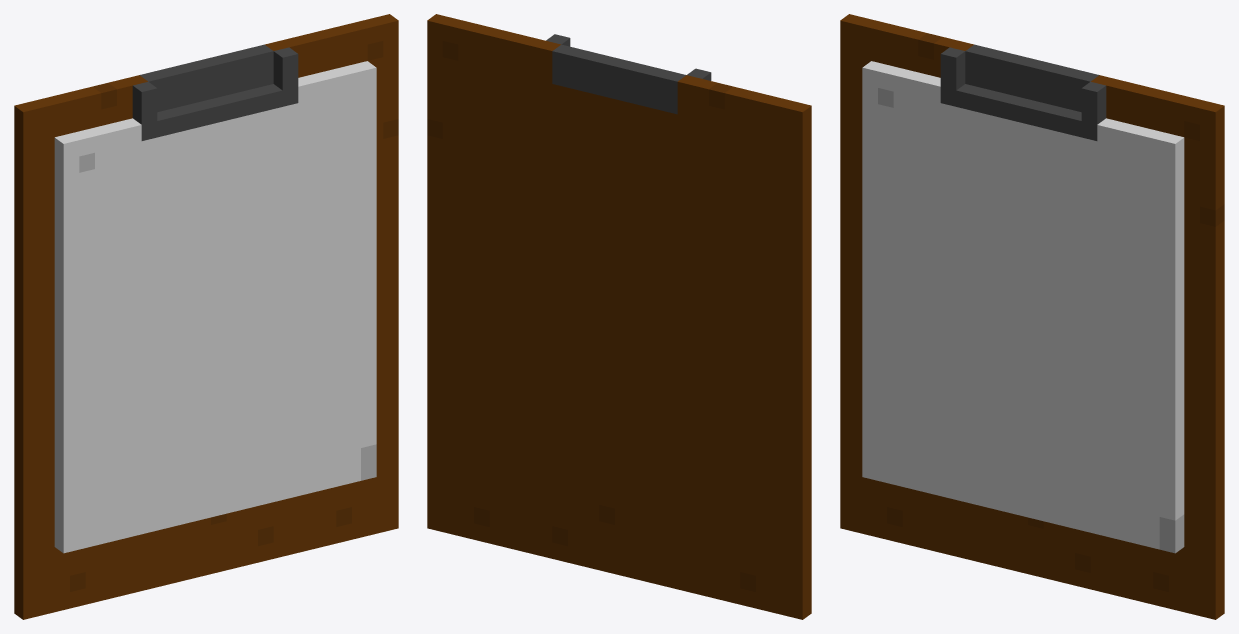
Rendered from Clipboard.obj.
3 views of the same model, side by side, from view 1: azimuth 30°, elevation 25°; view 2: azimuth 150°, elevation 25°; view 3: azimuth 330°, elevation 25° (orthographic).
Bounding box in the file's own units: 2.4 × 3.1 × 0.2.
1 material, 1 textured.
